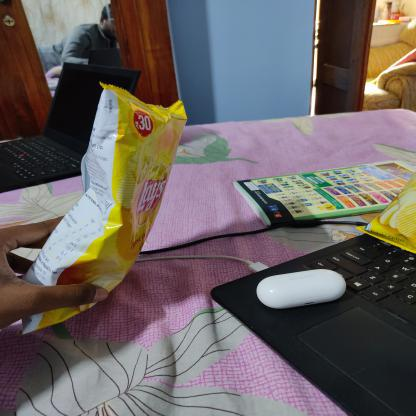classicsalted: (18, 80, 189, 351)
